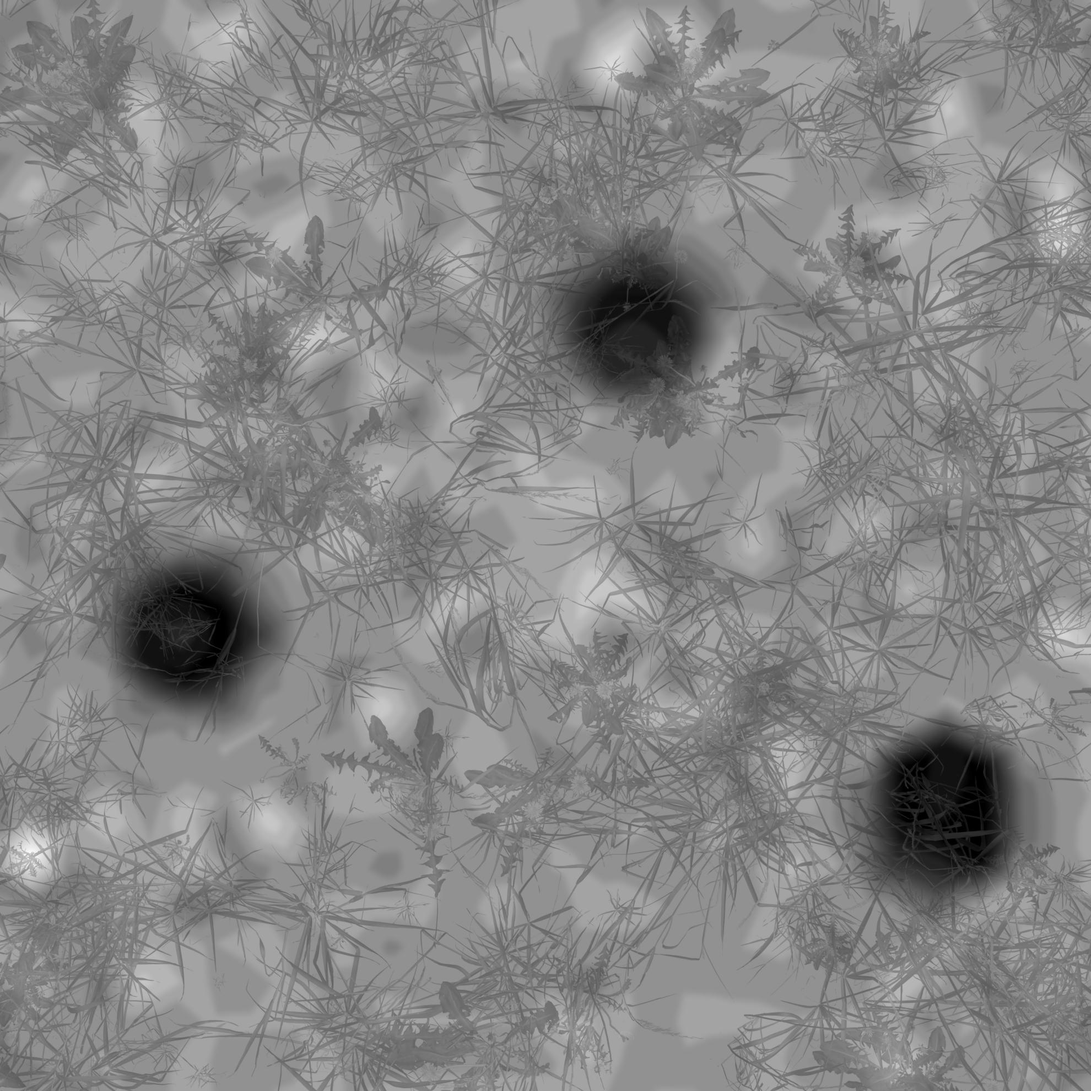landmine: (106, 534, 271, 709), (868, 729, 1031, 885), (564, 251, 700, 383)
